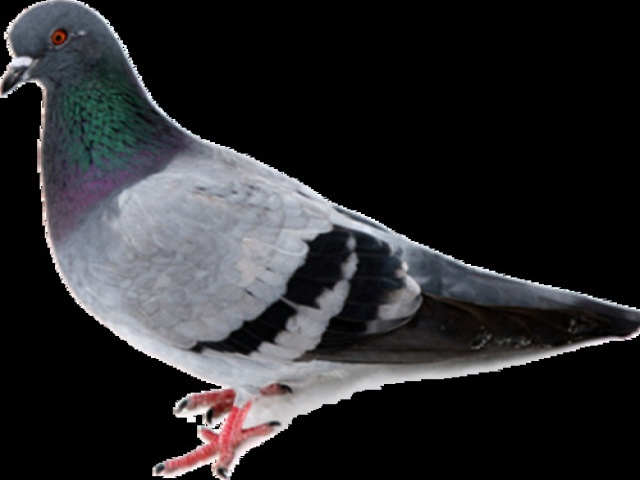Pigeon: (3, 5, 640, 477)
